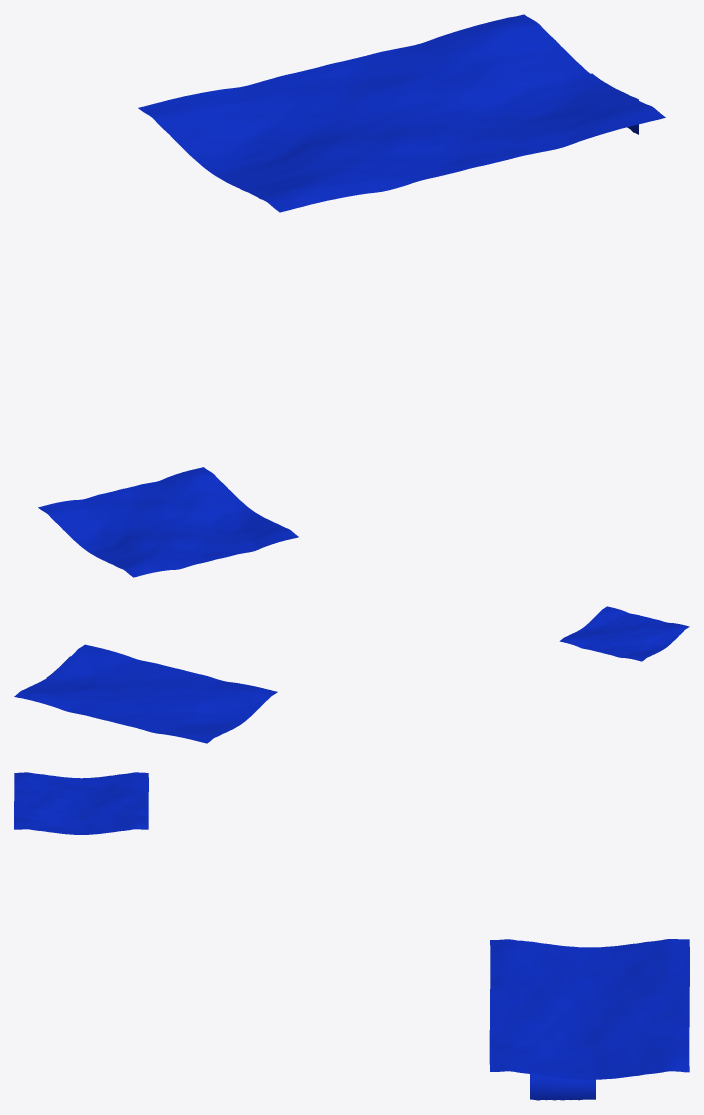
Rendered from village_lake.obj.
3 views of the same model, one above another, from view 1: azimuth 30°, elevation 25°; view 2: azimuth 150°, elevation 25°; view 3: azimuth 270°, elevation 25° (orthographic). The views are drawn at different scales.
Visible parts, largest first — view 1: 平面.001, 平面; view 2: 平面.001, 平面; view 3: 平面.001, 平面.
Boxes of the visible parts, <box> form: 平面.001: <box>138,14,665,212</box>; 平面: <box>38,467,298,577</box>; 平面.001: <box>14,644,277,743</box>; 平面: <box>559,606,689,661</box>; 平面.001: <box>489,939,689,1100</box>; 平面: <box>14,772,148,834</box>.
Size of the model in its own units: 23.26 by 1.1 by 22.2.
